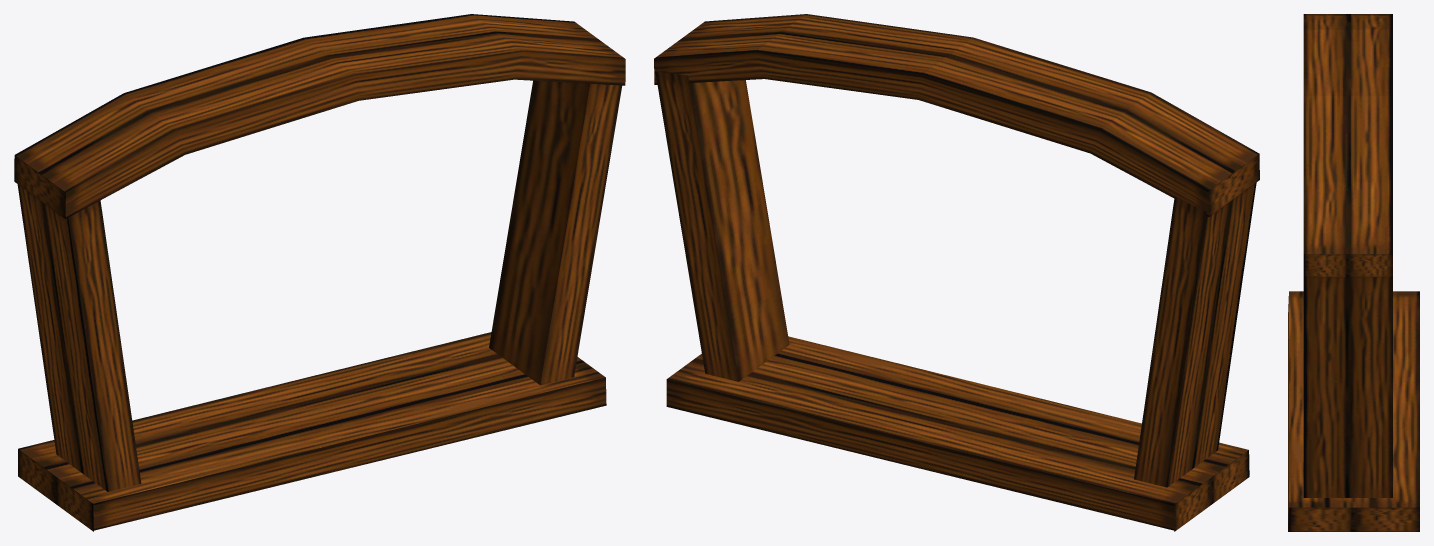
Rendered from Fenster_Holzrahmen_280.glb.
The picture shows the model from 3 angles, left to right: view 1: azimuth 30°, elevation 25°; view 2: azimuth 150°, elevation 25°; view 3: azimuth 270°, elevation 25°; orthographic projection. The views are drawn at different scales.
Parts seen in each view (by area): view 1: pPlaneShape12, pPlaneShape15, pPlaneShape4, pPlaneShape13, pPlaneShape9, pPlaneShape8, pPlaneShape5, pPlaneShape1, pPlaneShape18, pPlaneShape16; view 2: pPlaneShape12, pPlaneShape15, pPlaneShape4, pPlaneShape14, pPlaneShape10, pPlaneShape8, pPlaneShape2, pPlaneShape6, pPlaneShape18, pPlaneShape16; view 3: pPlaneShape15, pPlaneShape3, pPlaneShape12, pPlaneShape17, pPlaneShape19, pPlaneShape9.
Boxes of the visible parts, left/top/right/bottom form: pPlaneShape12: left=18, top=332, right=605, bottom=503; pPlaneShape15: left=15, top=14, right=624, bottom=192; pPlaneShape4: left=489, top=80, right=589, bottom=384; pPlaneShape13: left=65, top=51, right=625, bottom=218; pPlaneShape9: left=93, top=377, right=606, bottom=530; pPlaneShape8: left=17, top=184, right=107, bottom=491; pPlaneShape5: left=68, top=200, right=141, bottom=491; pPlaneShape1: left=540, top=83, right=621, bottom=385; pPlaneShape18: left=18, top=449, right=93, bottom=531; pPlaneShape16: left=14, top=155, right=65, bottom=218; pPlaneShape12: left=667, top=336, right=1248, bottom=504; pPlaneShape15: left=654, top=14, right=1259, bottom=190; pPlaneShape4: left=689, top=80, right=789, bottom=381; pPlaneShape14: left=654, top=51, right=1208, bottom=216; pPlaneShape10: left=666, top=379, right=1174, bottom=530; pPlaneShape8: left=1167, top=182, right=1256, bottom=486; pPlaneShape2: left=655, top=71, right=738, bottom=381; pPlaneShape6: left=1134, top=197, right=1206, bottom=487; pPlaneShape18: left=1174, top=450, right=1249, bottom=531; pPlaneShape16: left=1208, top=154, right=1259, bottom=216; pPlaneShape15: left=1303, top=14, right=1392, bottom=254; pPlaneShape3: left=1303, top=277, right=1392, bottom=497; pPlaneShape12: left=1289, top=291, right=1419, bottom=507; pPlaneShape17: left=1288, top=507, right=1419, bottom=531; pPlaneShape19: left=1303, top=254, right=1392, bottom=277; pPlaneShape9: left=1288, top=296, right=1288, bottom=529.
Bounding box in the file's own units: 0.346 × 0.2268 × 0.0811.
Materials: 18 (18 with a texture image).
